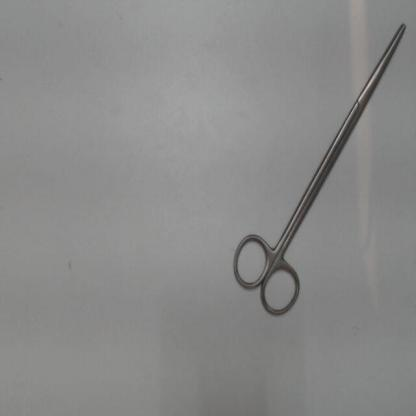9 Metzenbaum Scissors: (226, 17, 410, 324)
